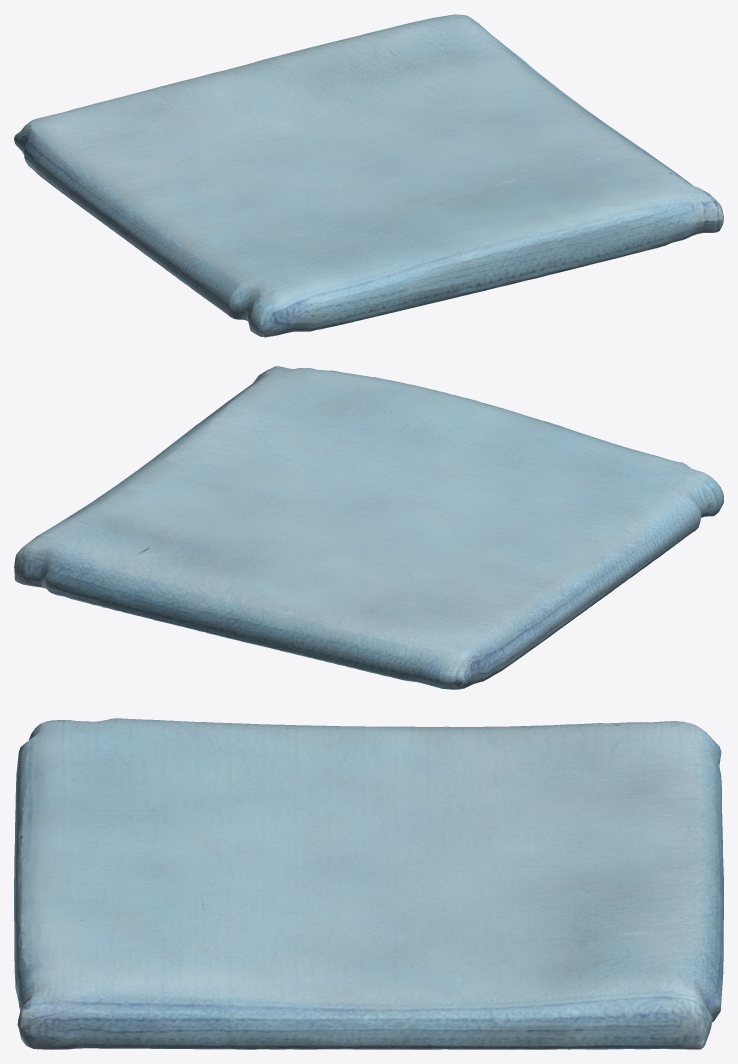
The model's file is table_cloth_generated_shorter.fbx.
The picture shows the model from 3 angles, top to bottom: view 1: azimuth 30°, elevation 25°; view 2: azimuth 150°, elevation 25°; view 3: azimuth 270°, elevation 25°; orthographic projection. The views are drawn at different scales.
Visible parts, largest first — view 1: Model; view 2: Model; view 3: Model.
Part boxes in pixels (left/top/right/bottom): Model: left=14, top=14, right=723, bottom=337; Model: left=14, top=366, right=723, bottom=689; Model: left=14, top=718, right=723, bottom=1049.
Size of the model in its own units: 0.1 by 0.01 by 0.1.
Materials: 1 (1 with a texture image).
